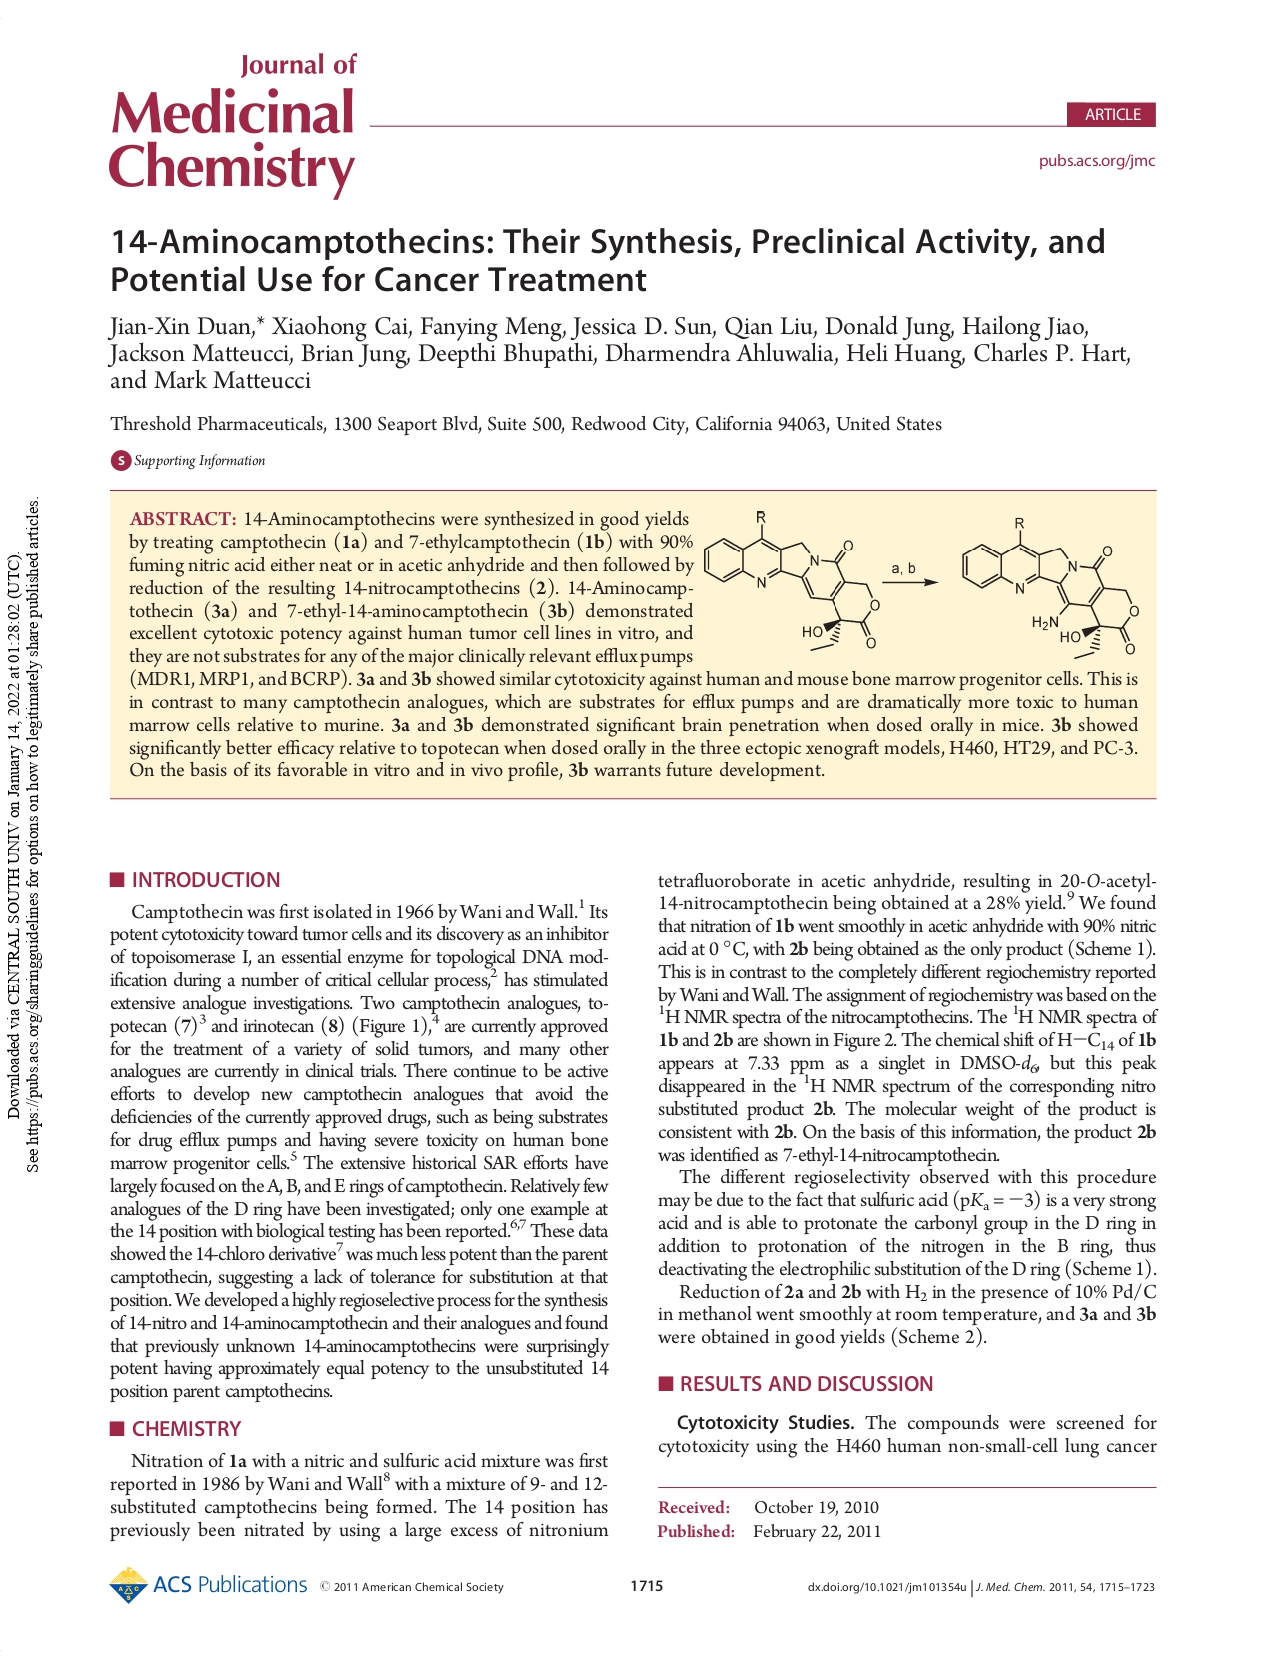exist_molecular: (694, 505, 882, 652), (960, 513, 1142, 661)
